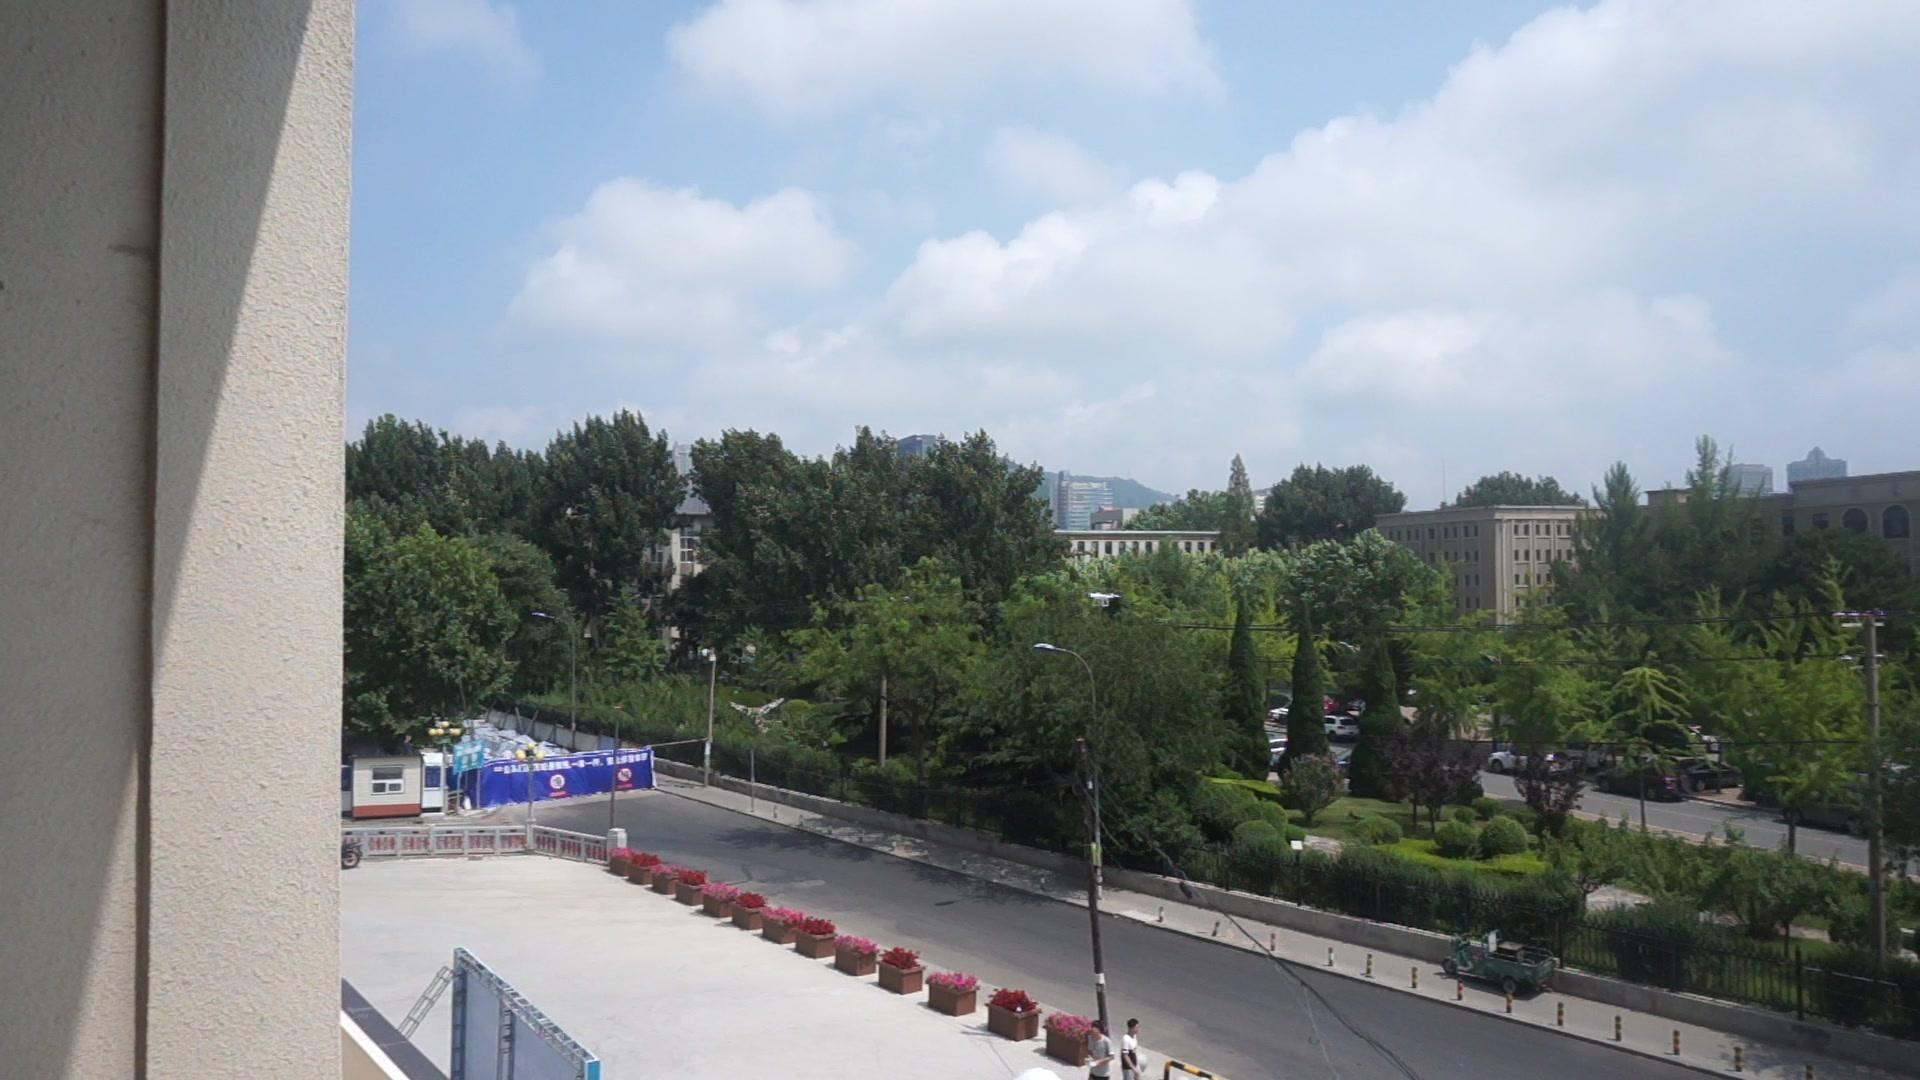UAV: (1089, 593, 1124, 608)
